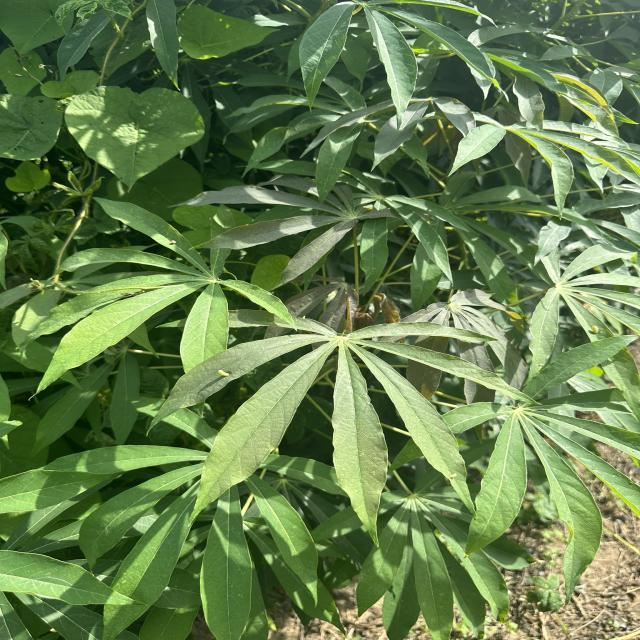Maleza: (0, 72, 218, 188)
Mosca: (446, 462, 463, 488), (260, 444, 284, 462), (584, 319, 607, 336), (211, 361, 230, 380), (163, 234, 182, 251)
